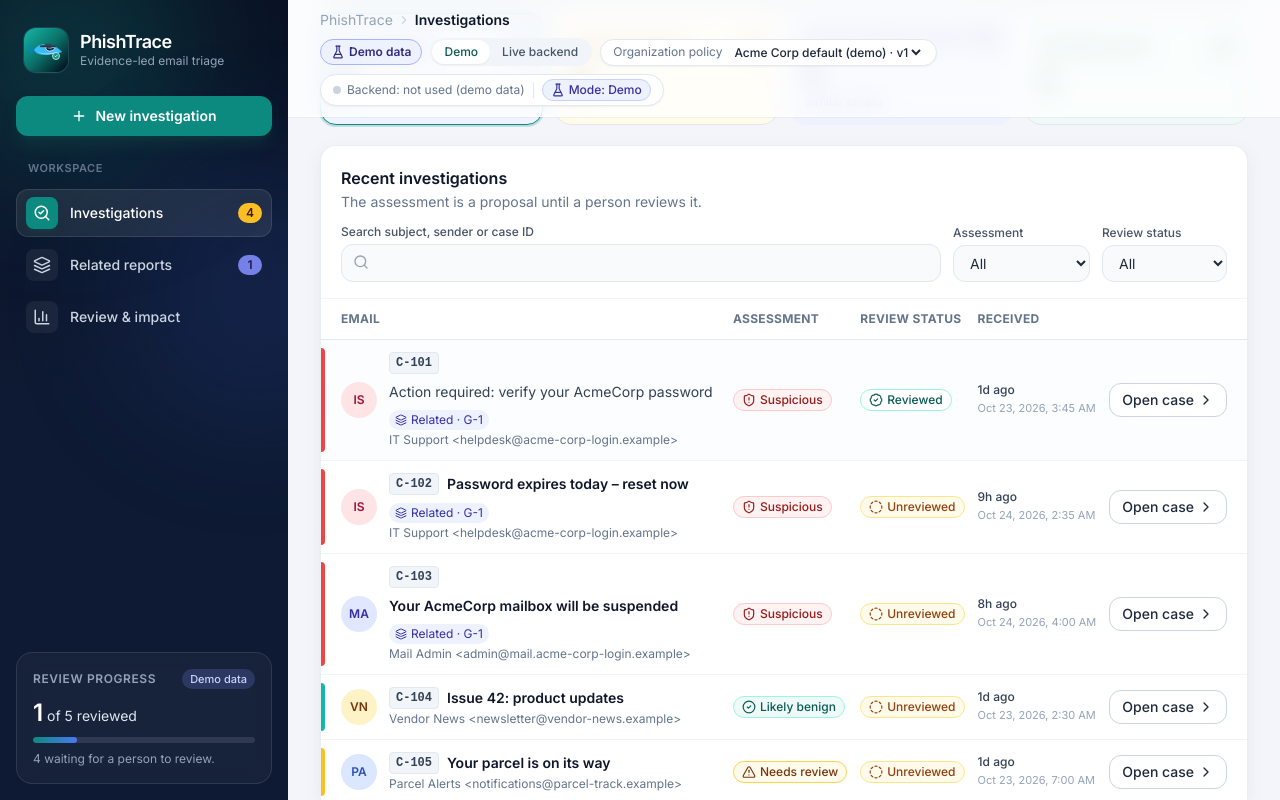
it: case details › leads with one verdict card and its top reasons, with the review card alongside
(page scrolled)
Click the button "Open case" next to "Oct 23, 2026, 3:45 AM" at (1168, 400), box 1109,383 -> 1227,417
(page scrolled)
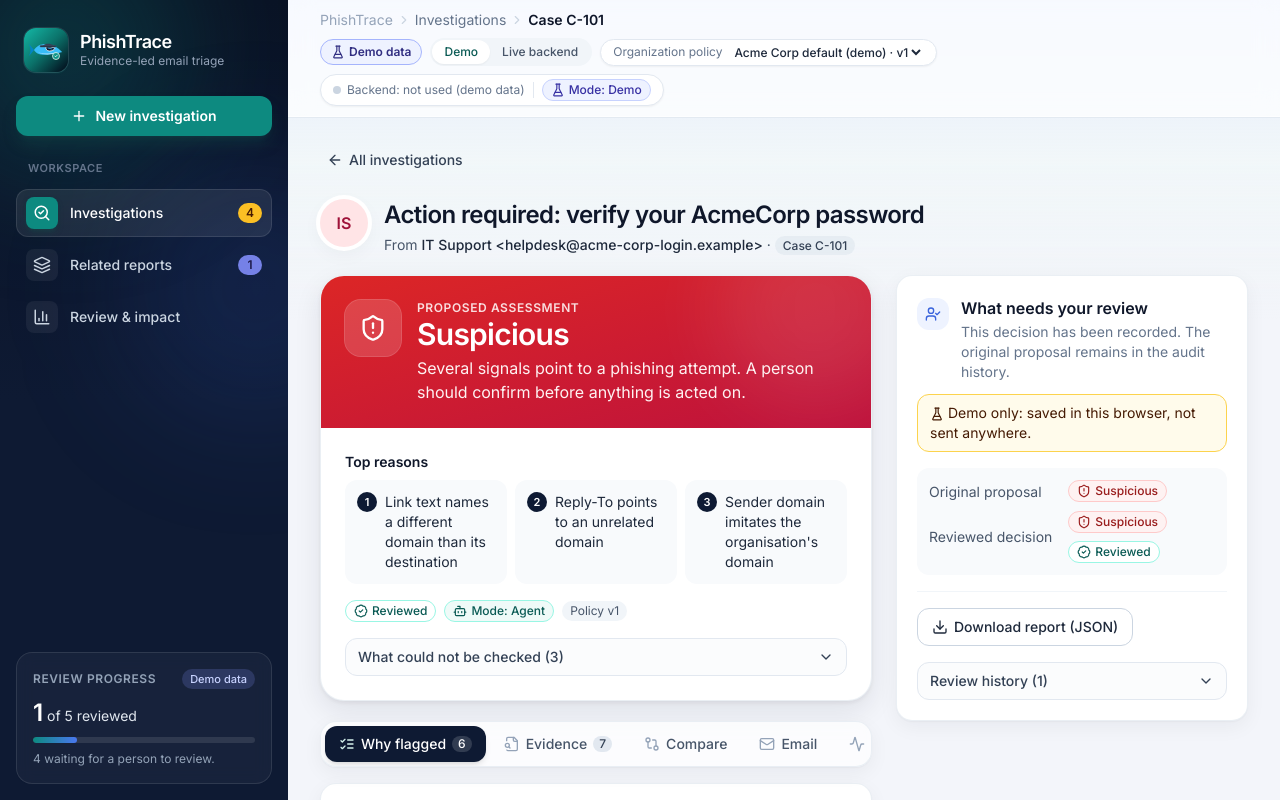
Expected: the heading "Action required: verify your AcmeCorp password" is shown, 384,199 -> 924,231
Now the heading "What needs your review" is shown, box 961,298 -> 1148,318
Now the text "Several signals point to a phishing attempt" is shown, box 417,358 -> 814,402
